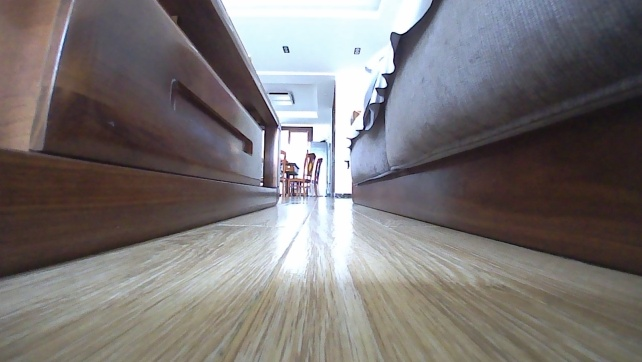dining_table: (276, 150, 324, 198)
sofa1: (341, 0, 641, 280)
tea_table1: (0, 0, 285, 281)
